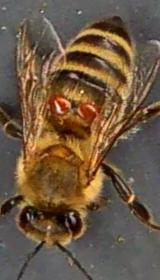varroa_mite: (75, 94, 98, 126), (48, 90, 76, 116)
